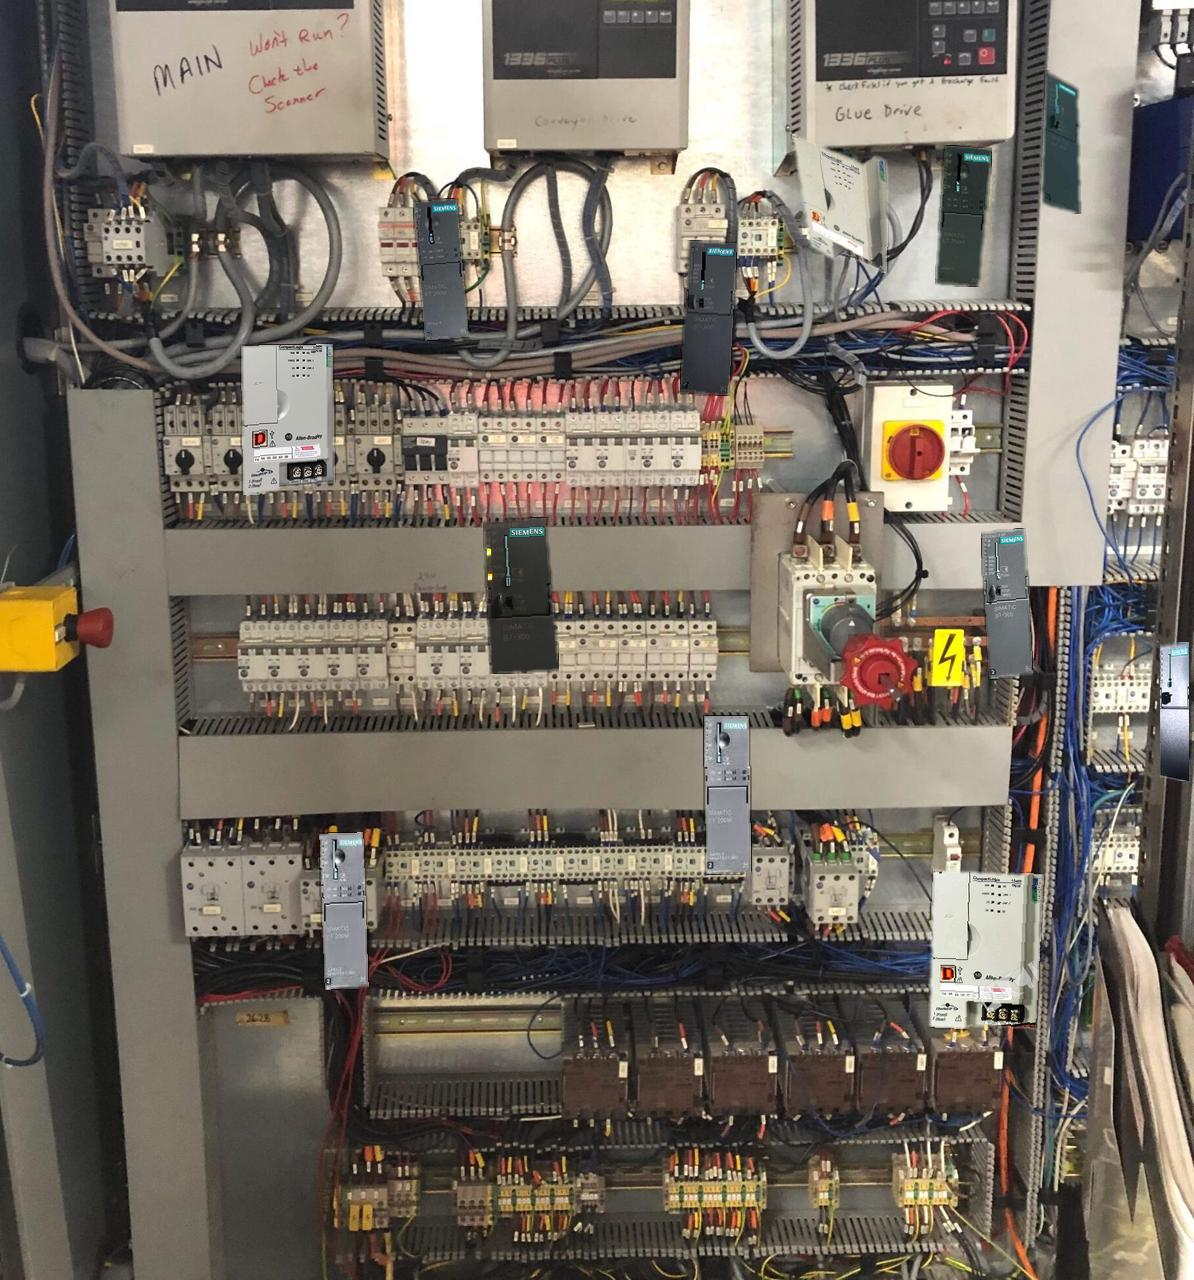AllenBradley: (930, 871, 1043, 1028), (242, 344, 333, 494), (792, 133, 887, 271)
Siemens: (484, 518, 558, 673), (680, 241, 736, 394), (981, 530, 1032, 678), (1043, 70, 1080, 213), (1160, 642, 1188, 780)
